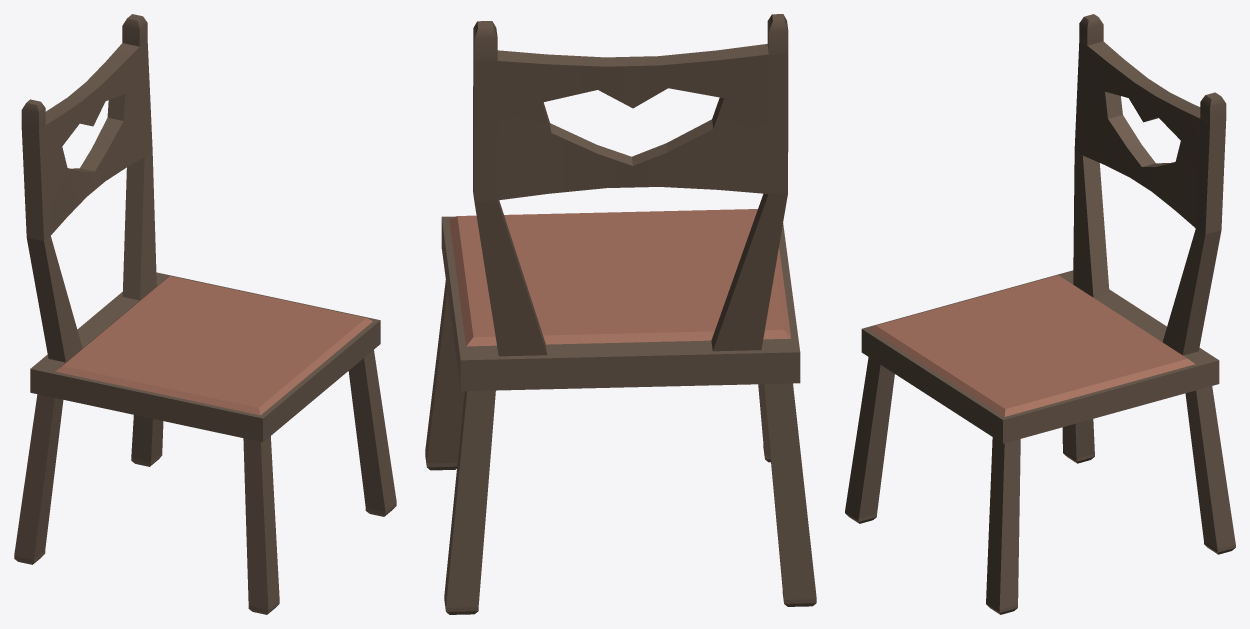
The model's file is Desk Chairv2.fbx.
3 views of the same model, side by side, from view 1: azimuth 30°, elevation 25°; view 2: azimuth 150°, elevation 25°; view 3: azimuth 270°, elevation 25° (orthographic). The views are drawn at different scales.
Parts seen in each view (by area): view 1: DeskChair; view 2: DeskChair; view 3: DeskChair.
Boxes of the visible parts, x1=… form: DeskChair: x1=14, y1=14, x2=396, y2=614; DeskChair: x1=425, y1=14, x2=816, y2=614; DeskChair: x1=845, y1=14, x2=1235, y2=614.
Size of the model in its own units: 34.26 by 43.19 by 34.26.
